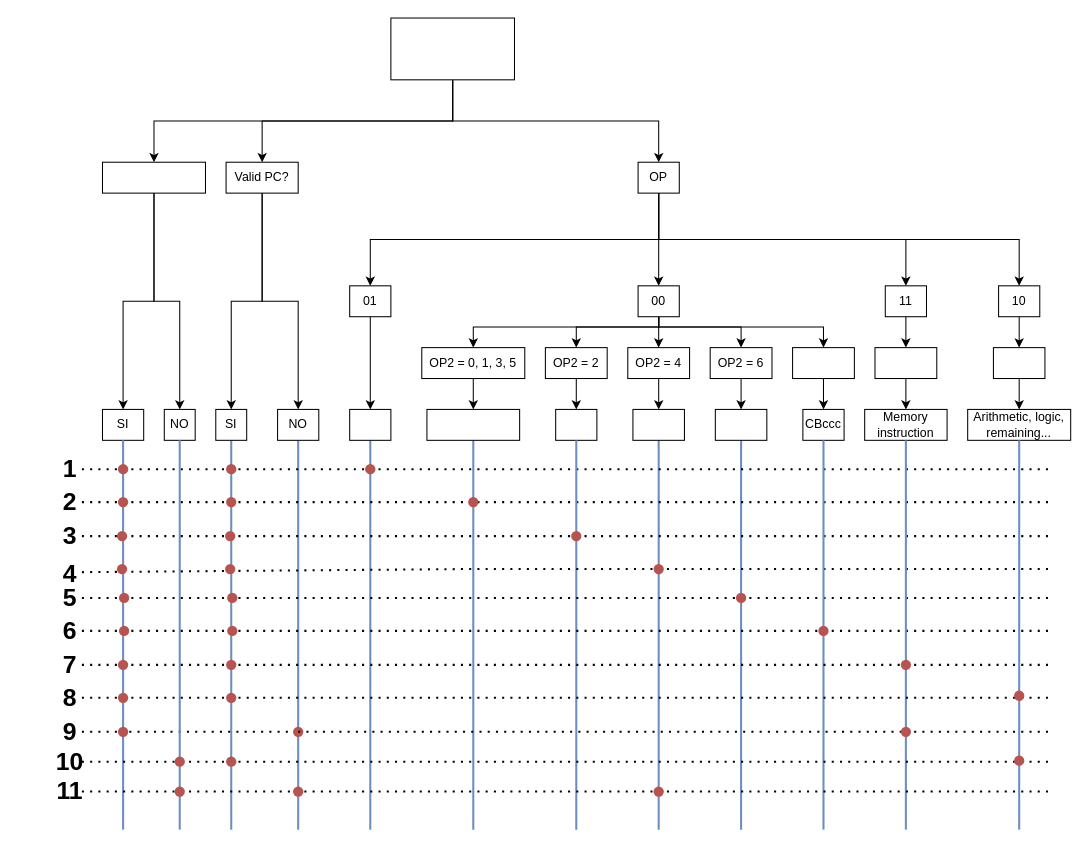
Image size: 1089x850. Some labels were removed from this diagram. Here are the shapes that lost their labels. From the top down, the centre of each, then its label:
At (x=153, y=177): "Binary loaded?".
At (x=823, y=363): "OP2 = 7".
At (x=905, y=363): "OP3 = 3".
At (x=1018, y=363): "OP3 = 2".
At (x=370, y=424): "CALL".
At (x=473, y=424): "Unimplemented".
At (x=576, y=424): "Bicc".
At (x=658, y=424): "SETHI".
At (x=740, y=424): "FBfcc".
